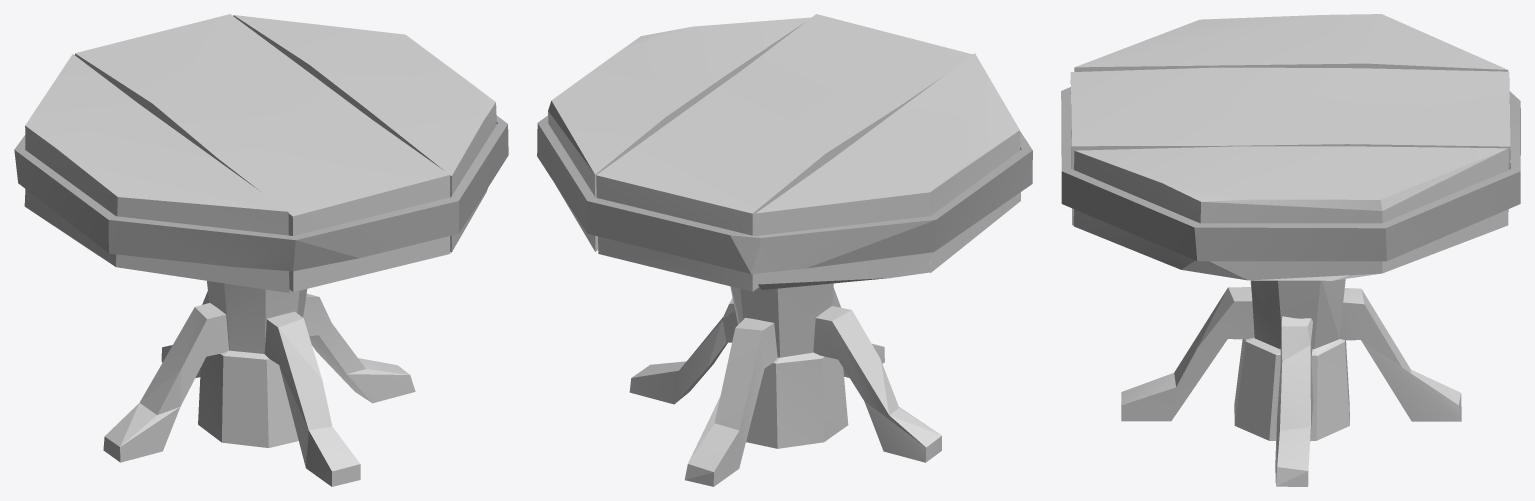
Rendered from KursiInterior.fbx.
The picture shows the model from 3 angles, left to right: view 1: azimuth 30°, elevation 25°; view 2: azimuth 150°, elevation 25°; view 3: azimuth 270°, elevation 25°; orthographic projection.
Visible parts, largest first — view 1: chairShabby; view 2: chairShabby; view 3: chairShabby.
Part boxes in pixels (<box>): chairShabby: <box>14,14,508,486</box>; chairShabby: <box>537,14,1032,486</box>; chairShabby: <box>1061,14,1520,486</box>.
Bounding box in the file's own units: 81.14 × 60.79 × 80.92.
